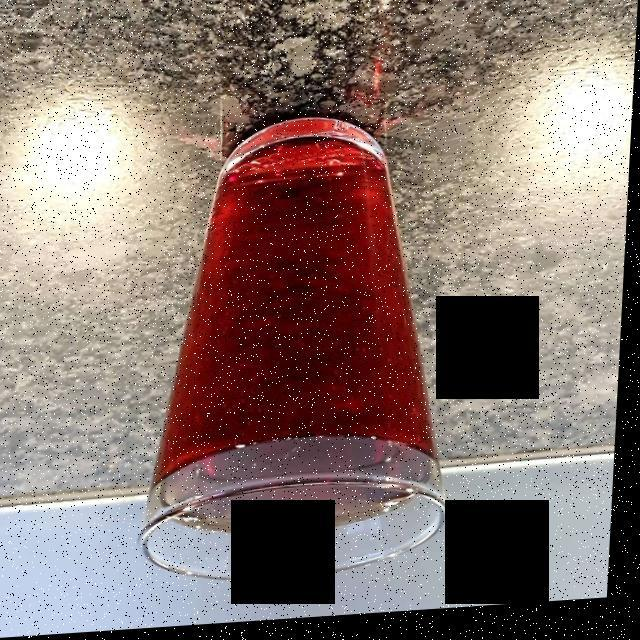drink: (142, 131, 438, 534)
